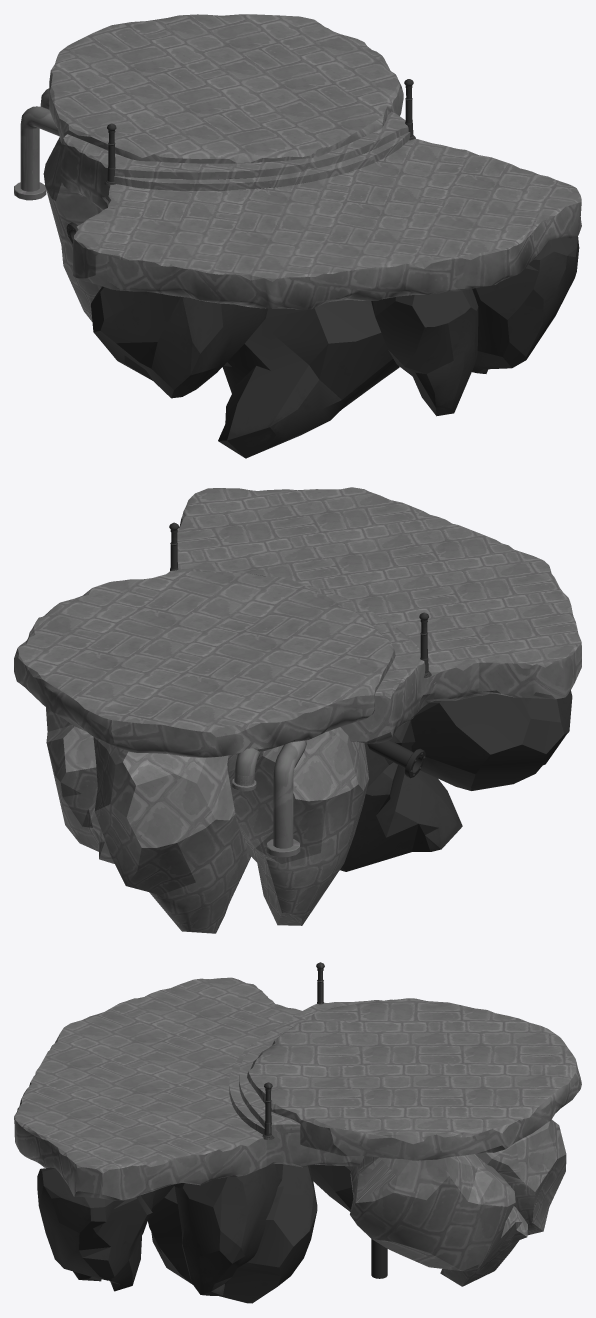
File: UpperStairContainer.fbx
3 views of the same model, one above another, from view 1: azimuth 30°, elevation 25°; view 2: azimuth 150°, elevation 25°; view 3: azimuth 270°, elevation 25° (orthographic). The views are drawn at different scales.
Parts seen in each view (by area): view 1: stairsIsland, roundIsland, RockDown6_uv1 (2), RockDown6_uv1, RockDown10_uv1 (1), RockDown10_uv1 (3), RockDown6_uv1 (4), pipeStraight1; view 2: roundIsland, stairsIsland, RockDown6_uv1 (3), RockDown6_uv1 (4), RockDown6_uv1, RockDown6_uv1 (2), RockDown6_uv1 (2).001, pipeStraight1, pipeStraight, RockDown6_uv1 (1), pipeStraight3; view 3: stairsIsland, roundIsland, RockDown6_uv1 (2).001, RockDown10_uv1 (2), RockDown6_uv1 (2), RockDown10_uv1 (3), RockDown6_uv1 (3), RockDown6_uv1 (1), pipeStraight2 (2).
Part boxes in pixels (x1,y1,x2,y2): stairsIsland: [60, 111, 581, 309]; roundIsland: [49, 14, 403, 163]; RockDown6_uv1 (2): [218, 300, 399, 458]; RockDown6_uv1: [91, 286, 267, 398]; RockDown10_uv1 (1): [371, 289, 478, 416]; RockDown10_uv1 (3): [472, 236, 579, 373]; RockDown6_uv1 (4): [43, 137, 102, 321]; pipeStraight1: [14, 106, 59, 200]; roundIsland: [14, 571, 395, 757]; stairsIsland: [166, 487, 581, 743]; RockDown6_uv1 (3): [93, 736, 251, 933]; RockDown6_uv1 (4): [227, 727, 369, 925]; RockDown6_uv1: [409, 690, 572, 790]; RockDown6_uv1 (2): [340, 762, 462, 871]; RockDown6_uv1 (2).001: [46, 707, 114, 863]; pipeStraight1: [266, 740, 306, 857]; pipeStraight: [367, 740, 425, 778]; RockDown6_uv1 (1): [364, 720, 415, 787]; pipeStraight3: [231, 748, 263, 791]; stairsIsland: [14, 977, 392, 1200]; roundIsland: [247, 998, 581, 1160]; RockDown6_uv1 (2).001: [350, 1154, 527, 1272]; RockDown10_uv1 (2): [174, 1164, 283, 1295]; RockDown6_uv1 (2): [148, 1164, 317, 1303]; RockDown10_uv1 (3): [37, 1167, 152, 1291]; RockDown6_uv1 (3): [440, 1119, 566, 1286]; RockDown6_uv1 (1): [310, 1165, 353, 1211]; pipeStraight2 (2): [371, 1239, 387, 1278].
Size of what is drawn, in the model's own units: 3821 by 2555 by 4761.
